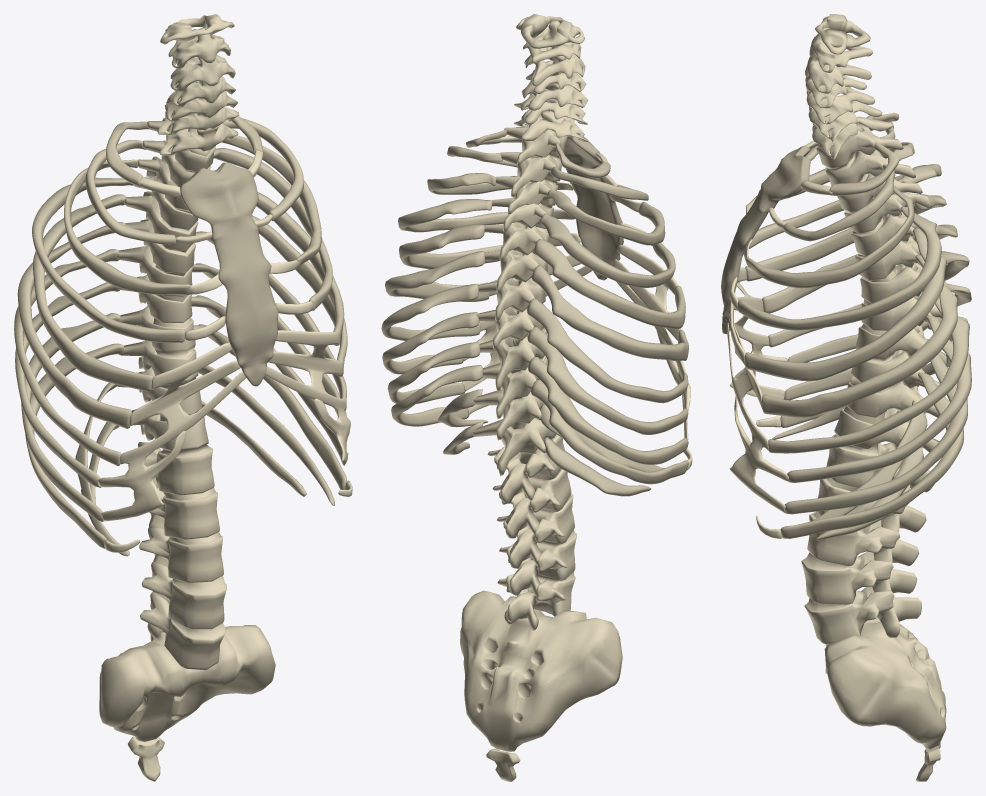
Rendered from EDU_Spine_Torso_RibCage_20261016.glb.
The picture shows the model from 3 angles, left to right: view 1: azimuth 30°, elevation 25°; view 2: azimuth 150°, elevation 25°; view 3: azimuth 270°, elevation 25°; orthographic projection. The views are drawn at different scales.
Visible parts, largest first — view 1: EDU_Spine_Torso_RibCage_20261016_Part_00_00, EDU_Spine_Torso_RibCage_20261016_Part_01_00, EDU_Spine_Torso_RibCage_20261016_Part_02_00, EDU_Spine_Torso_RibCage_20261016_Part_03_00; view 2: EDU_Spine_Torso_RibCage_20261016_Part_00_00, EDU_Spine_Torso_RibCage_20261016_Part_01_00, EDU_Spine_Torso_RibCage_20261016_Part_02_00, EDU_Spine_Torso_RibCage_20261016_Part_03_00; view 3: EDU_Spine_Torso_RibCage_20261016_Part_00_00, EDU_Spine_Torso_RibCage_20261016_Part_01_00, EDU_Spine_Torso_RibCage_20261016_Part_02_00, EDU_Spine_Torso_RibCage_20261016_Part_03_00.
Boxes of the visible parts, x1,y1,x2,y2 form: EDU_Spine_Torso_RibCage_20261016_Part_00_00: (99,14,275,781); EDU_Spine_Torso_RibCage_20261016_Part_01_00: (14,116,347,556); EDU_Spine_Torso_RibCage_20261016_Part_02_00: (97,150,352,552); EDU_Spine_Torso_RibCage_20261016_Part_03_00: (180,162,278,386); EDU_Spine_Torso_RibCage_20261016_Part_00_00: (460,14,622,781); EDU_Spine_Torso_RibCage_20261016_Part_01_00: (381,130,688,496); EDU_Spine_Torso_RibCage_20261016_Part_02_00: (461,136,692,469); EDU_Spine_Torso_RibCage_20261016_Part_03_00: (565,135,623,280); EDU_Spine_Torso_RibCage_20261016_Part_00_00: (801,14,946,781); EDU_Spine_Torso_RibCage_20261016_Part_01_00: (737,112,971,540); EDU_Spine_Torso_RibCage_20261016_Part_02_00: (726,141,832,538); EDU_Spine_Torso_RibCage_20261016_Part_03_00: (721,145,810,334).
Size of the model in its own units: 0.2667 by 0.7 by 0.2097.
